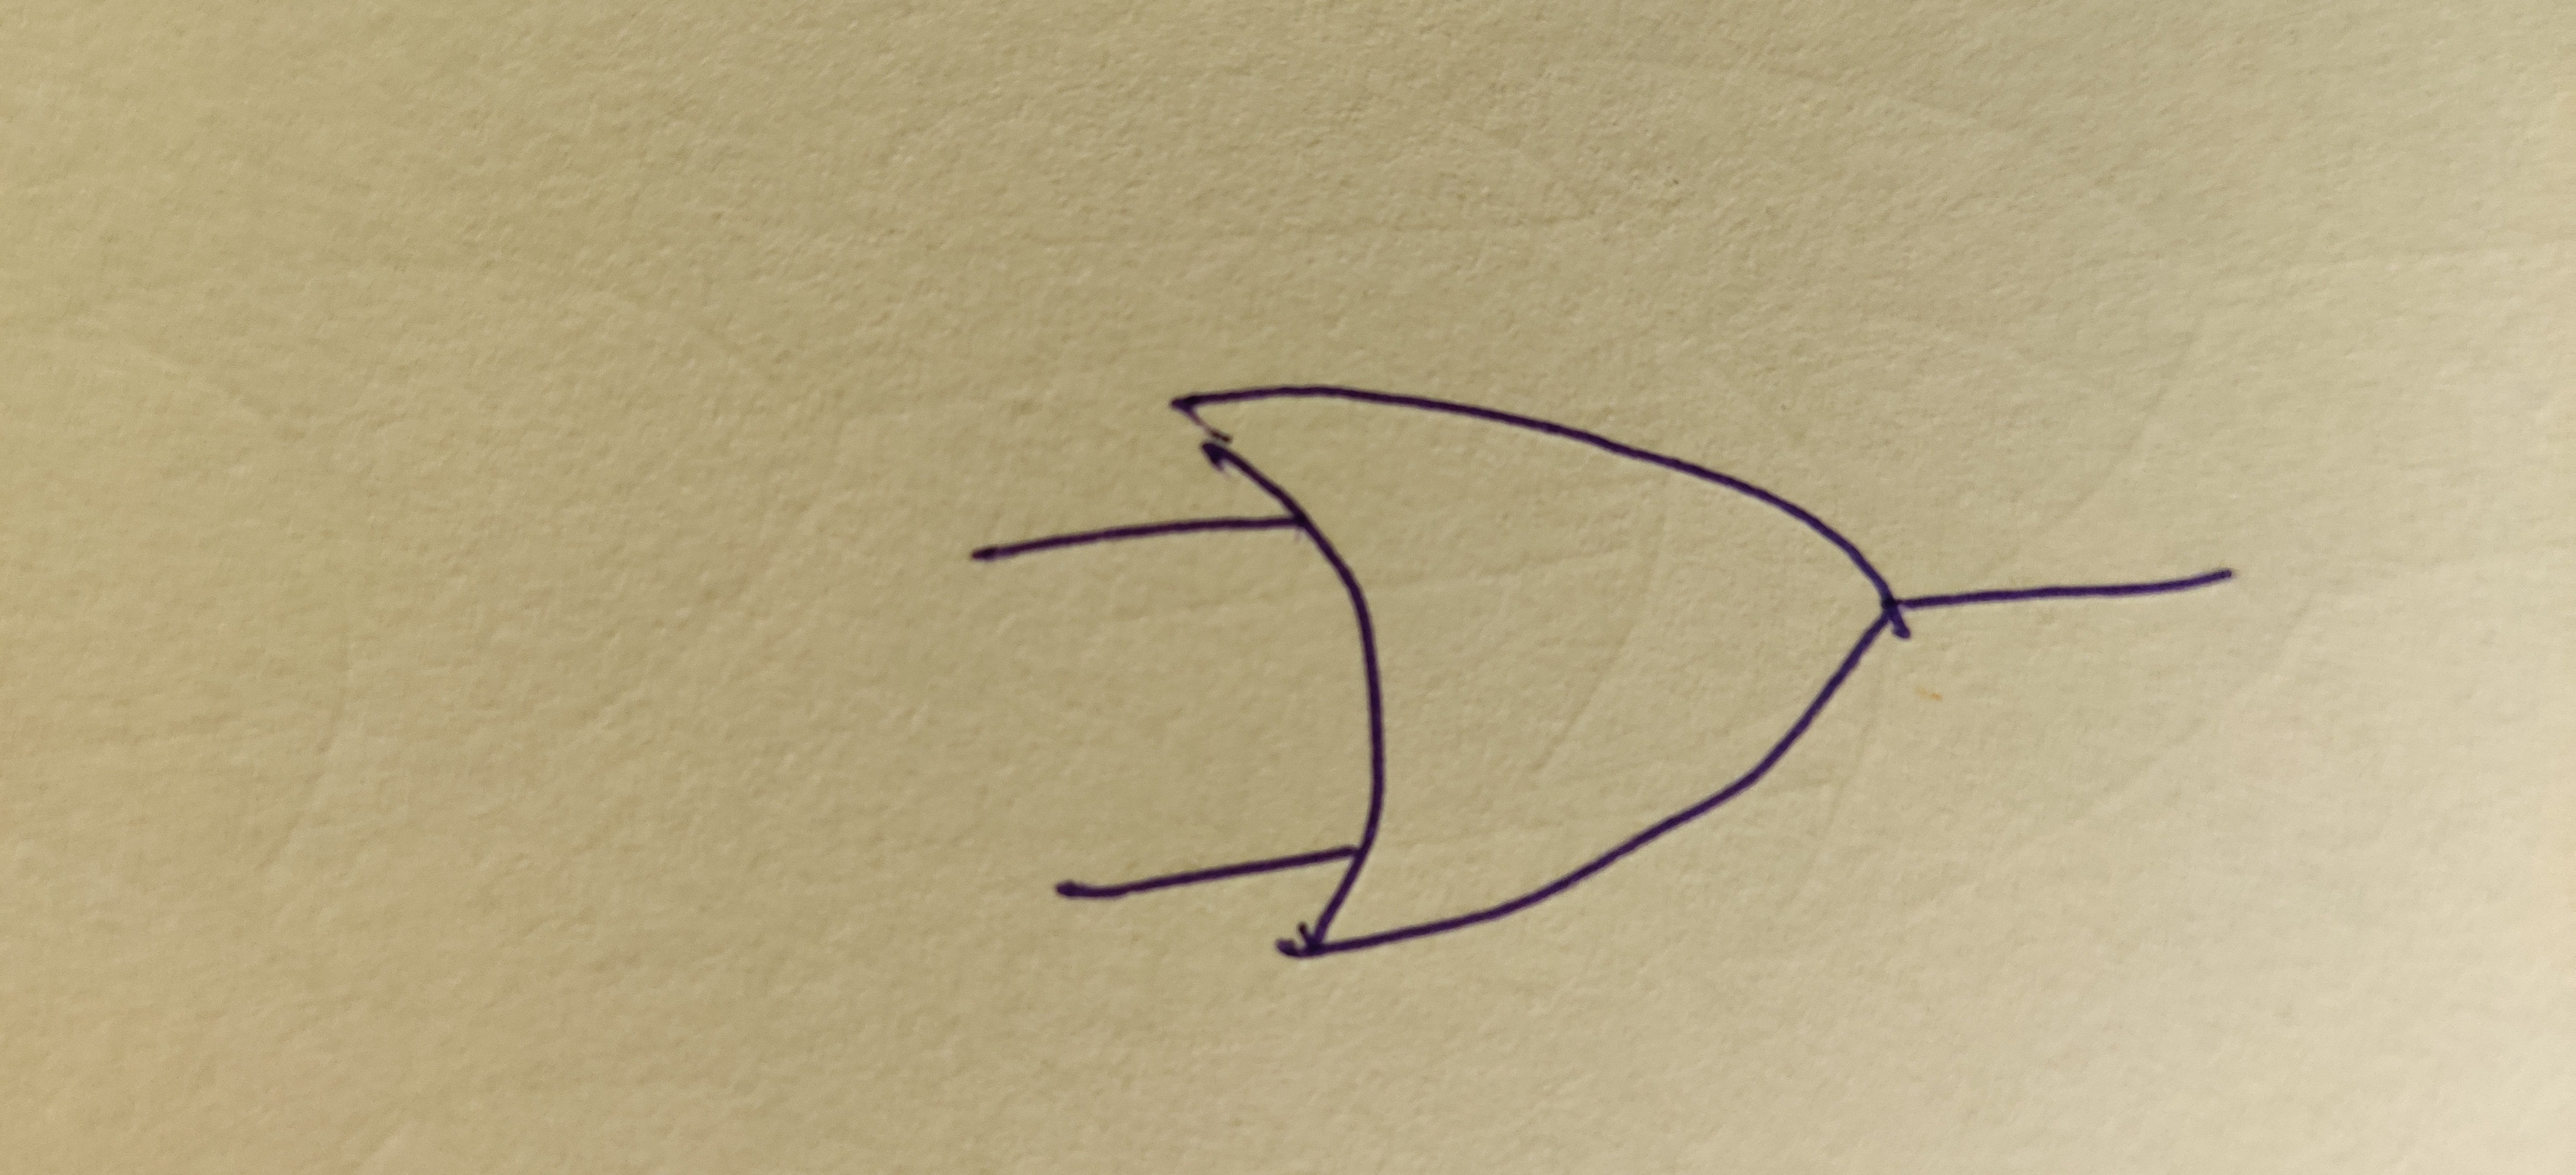or: (1180, 386, 1894, 953)
